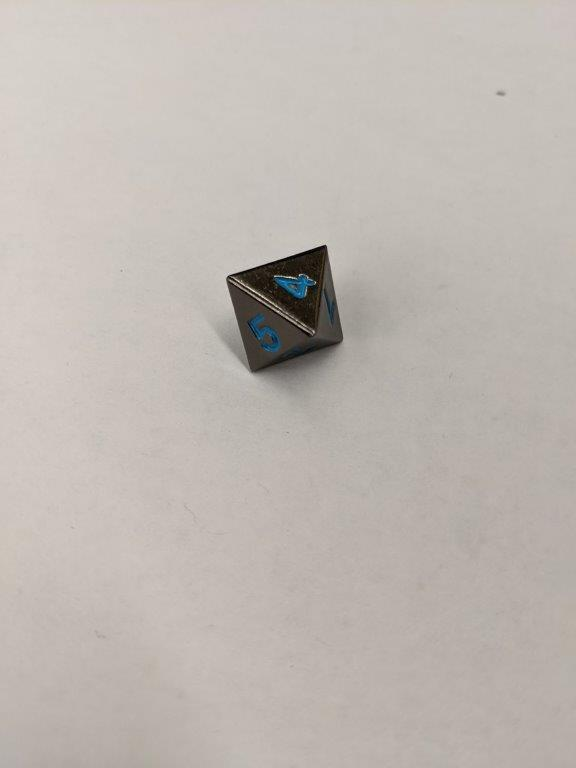d8-4: (224, 240, 349, 376)
